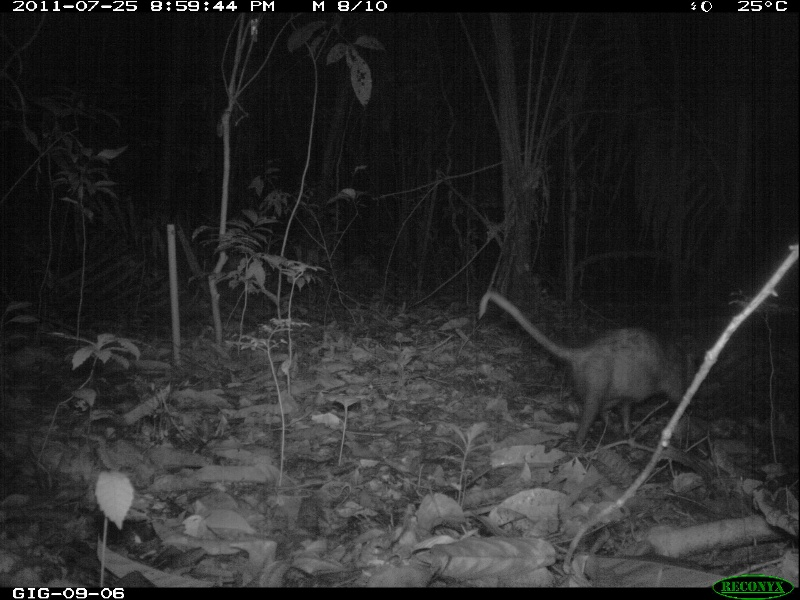opossum: (474, 285, 709, 456)
